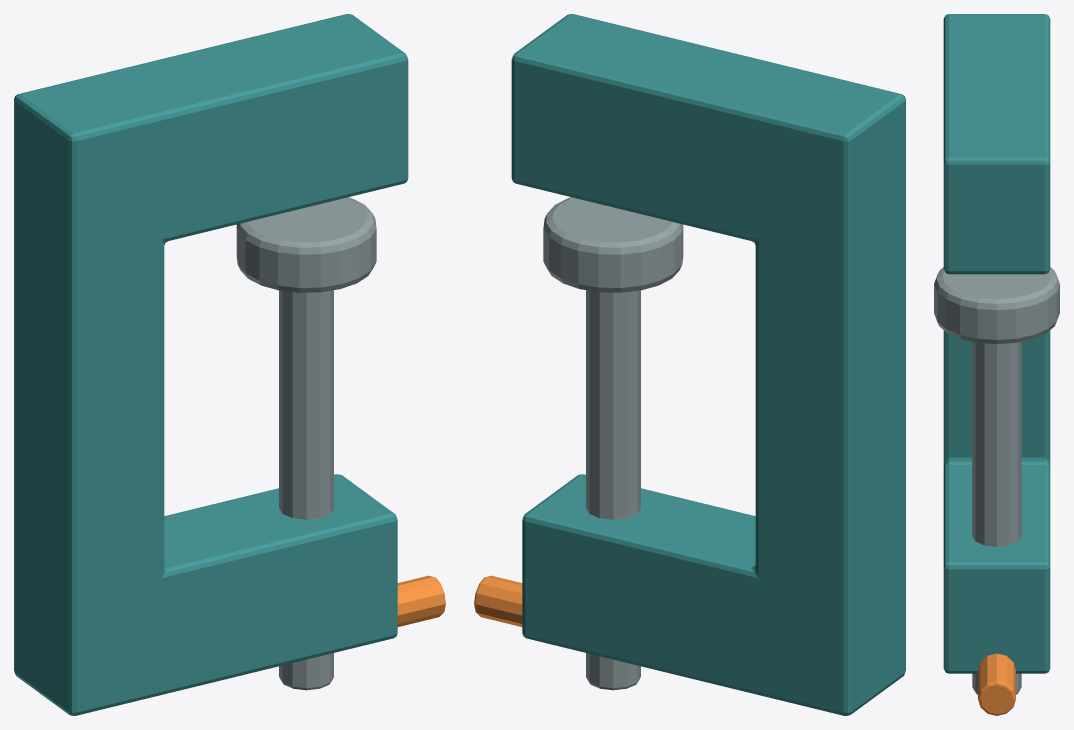
The model's file is P081_c_clamp.glb.
The picture shows the model from 3 angles, left to right: view 1: azimuth 30°, elevation 25°; view 2: azimuth 150°, elevation 25°; view 3: azimuth 270°, elevation 25°; orthographic projection. The views are drawn at different scales.
Parts seen in each view (by area): view 1: P081_C_frame_001, P081_screw_002, P081_pad_003, P081_turn_bar_004; view 2: P081_C_frame_001, P081_screw_002, P081_pad_003, P081_turn_bar_004; view 3: P081_C_frame_001, P081_screw_002, P081_pad_003, P081_turn_bar_004.
Part boxes in pixels (<box>): P081_C_frame_001: <box>14,14,408,715</box>; P081_screw_002: <box>279,290,333,690</box>; P081_pad_003: <box>236,197,376,292</box>; P081_turn_bar_004: <box>397,575,445,626</box>; P081_C_frame_001: <box>511,14,905,715</box>; P081_screw_002: <box>586,290,640,690</box>; P081_pad_003: <box>543,197,683,292</box>; P081_turn_bar_004: <box>474,575,522,626</box>; P081_C_frame_001: <box>943,14,1050,673</box>; P081_screw_002: <box>972,341,1021,694</box>; P081_pad_003: <box>934,267,1059,344</box>; P081_turn_bar_004: <box>978,653,1015,715</box>.
Bounding box in the file's own units: 0.149 × 0.227 × 0.046.
